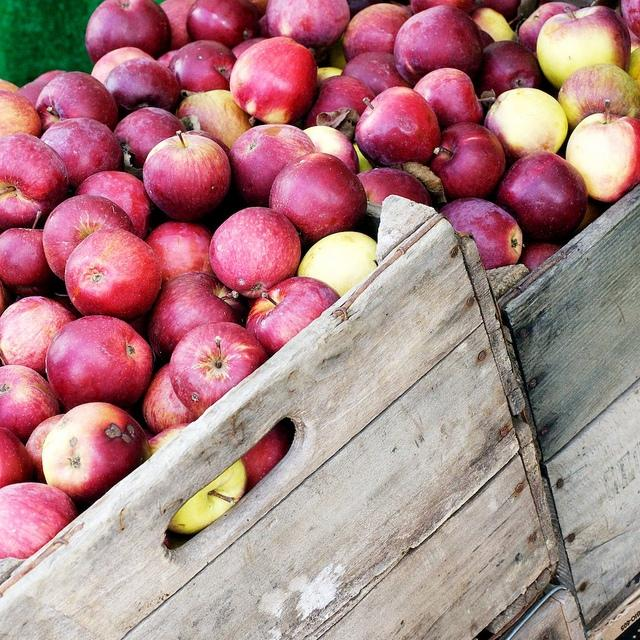apple: (42, 402, 152, 510), (148, 422, 248, 535), (45, 314, 154, 410), (169, 321, 269, 419), (64, 228, 163, 324), (268, 152, 368, 246), (148, 271, 246, 364), (210, 206, 302, 300), (496, 150, 588, 244), (536, 5, 631, 90), (42, 194, 134, 281), (230, 36, 318, 126), (142, 130, 230, 220), (565, 99, 640, 202), (246, 276, 340, 358), (394, 5, 486, 86), (228, 124, 316, 208), (355, 86, 441, 168), (0, 133, 68, 236), (40, 118, 125, 200), (0, 296, 77, 378), (426, 122, 506, 200), (437, 198, 523, 270), (0, 482, 79, 559), (484, 88, 568, 160), (85, 0, 172, 64), (558, 64, 640, 131), (0, 211, 62, 298), (35, 72, 119, 136), (74, 170, 150, 240), (414, 67, 496, 131), (297, 231, 377, 296), (103, 56, 180, 122), (266, 0, 350, 60), (144, 220, 217, 288), (0, 365, 60, 446), (112, 107, 188, 169), (168, 40, 238, 107), (178, 90, 255, 149), (472, 40, 546, 98), (343, 3, 411, 64), (142, 362, 199, 434), (304, 75, 376, 129), (242, 424, 294, 496), (186, 0, 258, 50), (518, 1, 580, 58), (340, 52, 414, 97), (356, 168, 431, 207), (25, 414, 66, 484), (303, 126, 360, 174), (90, 47, 156, 85), (410, 0, 518, 23), (0, 427, 36, 489), (14, 70, 68, 108), (0, 90, 42, 138), (468, 7, 524, 43), (159, 0, 195, 50), (567, 198, 601, 238), (520, 242, 562, 273), (352, 142, 380, 174), (326, 31, 347, 70), (621, 0, 640, 38), (231, 38, 267, 58), (0, 279, 15, 317), (317, 67, 343, 86), (245, 1, 269, 20), (628, 47, 640, 85), (156, 49, 180, 67), (0, 79, 19, 93)
